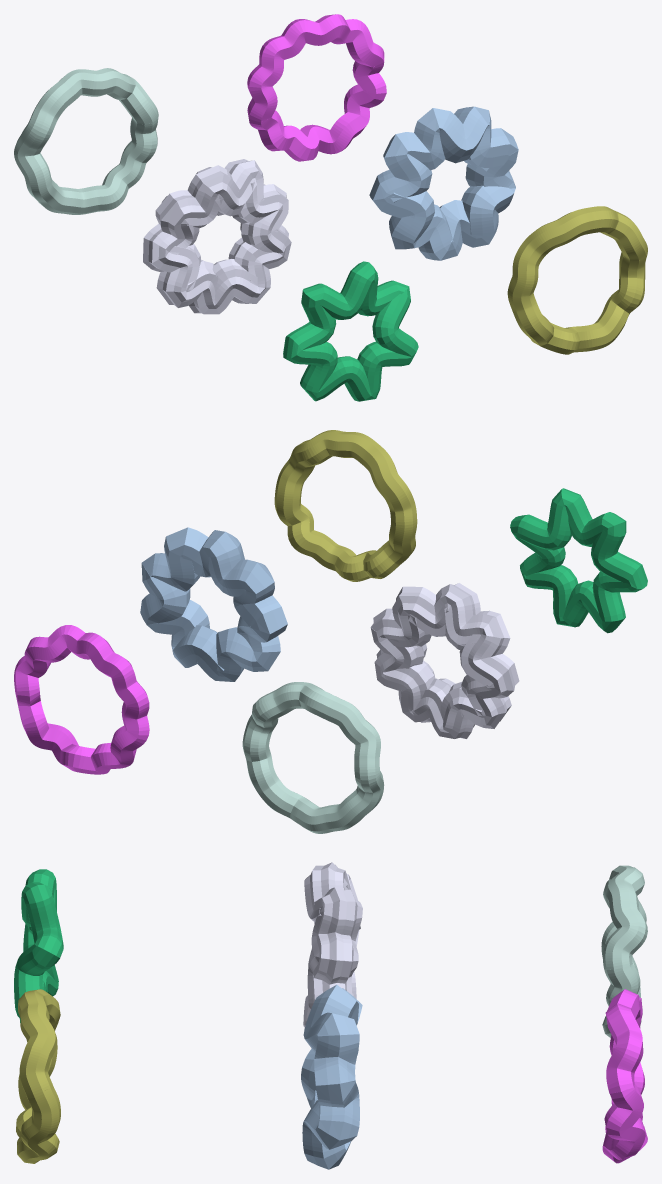
File: LineMats_0_ClosedSplineTest_2023-06-04-21-23-00.gltf
The picture shows the model from 3 angles, top to bottom: view 1: azimuth 30°, elevation 25°; view 2: azimuth 150°, elevation 25°; view 3: azimuth 270°, elevation 25°; orthographic projection. The views are drawn at different scales.
Size of the model in its own units: 325 by 126 by 432.
